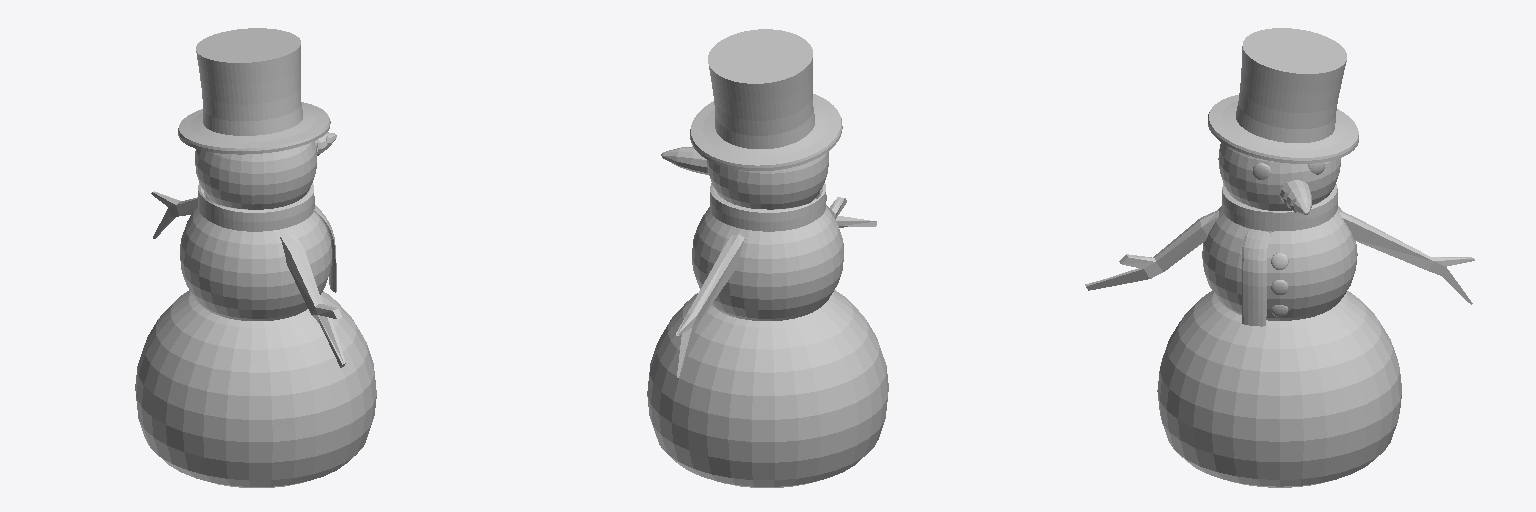
Rendered from snowman.obj.
3 renders of one model, left to right at view 1: azimuth 30°, elevation 25°; view 2: azimuth 150°, elevation 25°; view 3: azimuth 270°, elevation 25°, orthographic.
Visible parts, largest first — view 1: Circle; view 2: Circle; view 3: Circle.
Boxes of the visible parts, <box> form: Circle: <box>135,28,376,487</box>; Circle: <box>647,29,888,487</box>; Circle: <box>1085,28,1474,487</box>.
Bounding box in the file's own units: 1.81 × 3.48 × 2.93.